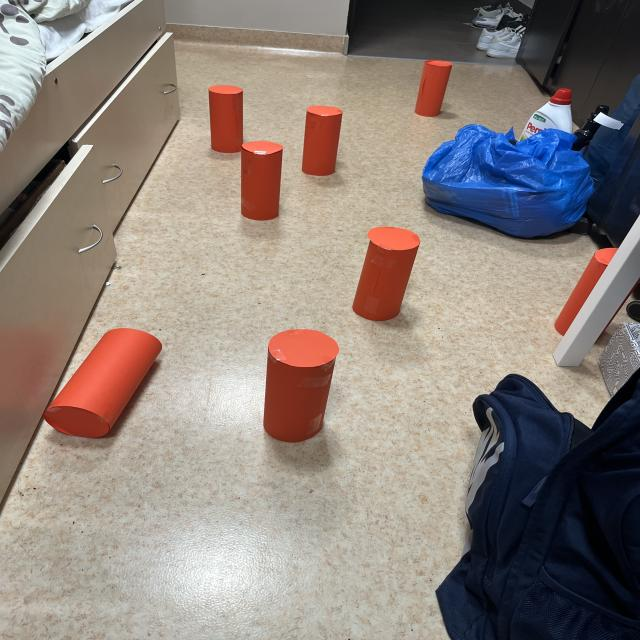przeszkoda: (43, 328, 162, 438), (264, 329, 339, 442), (353, 227, 419, 321), (241, 141, 283, 220), (302, 106, 342, 176), (209, 85, 243, 153), (415, 61, 451, 116)
